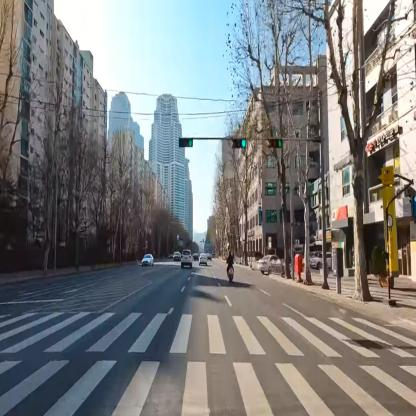Green: (177, 136, 194, 149), (269, 140, 282, 150), (233, 140, 246, 148)
